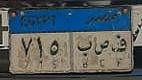1: (35, 34, 43, 58)
5: (48, 40, 61, 57)
7: (21, 35, 33, 56)
baa: (77, 39, 93, 58)
faa: (110, 32, 128, 54)
saad: (94, 38, 110, 57)
